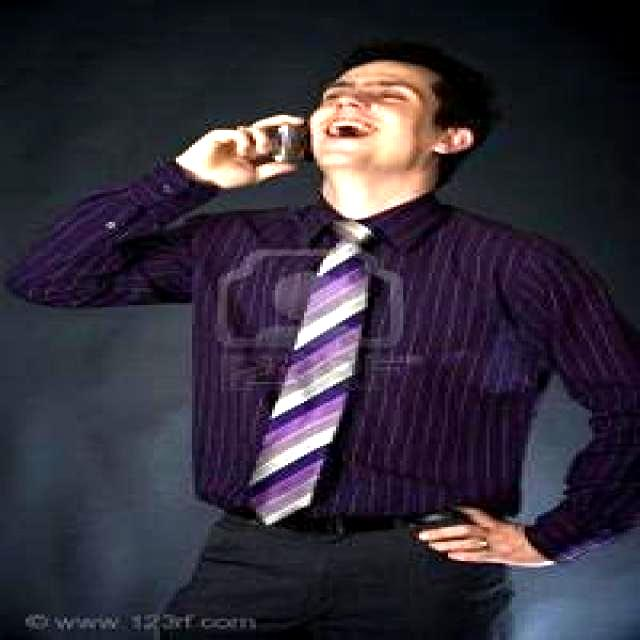no_head_wear: (326, 41, 490, 105)
person: (0, 39, 637, 638)
